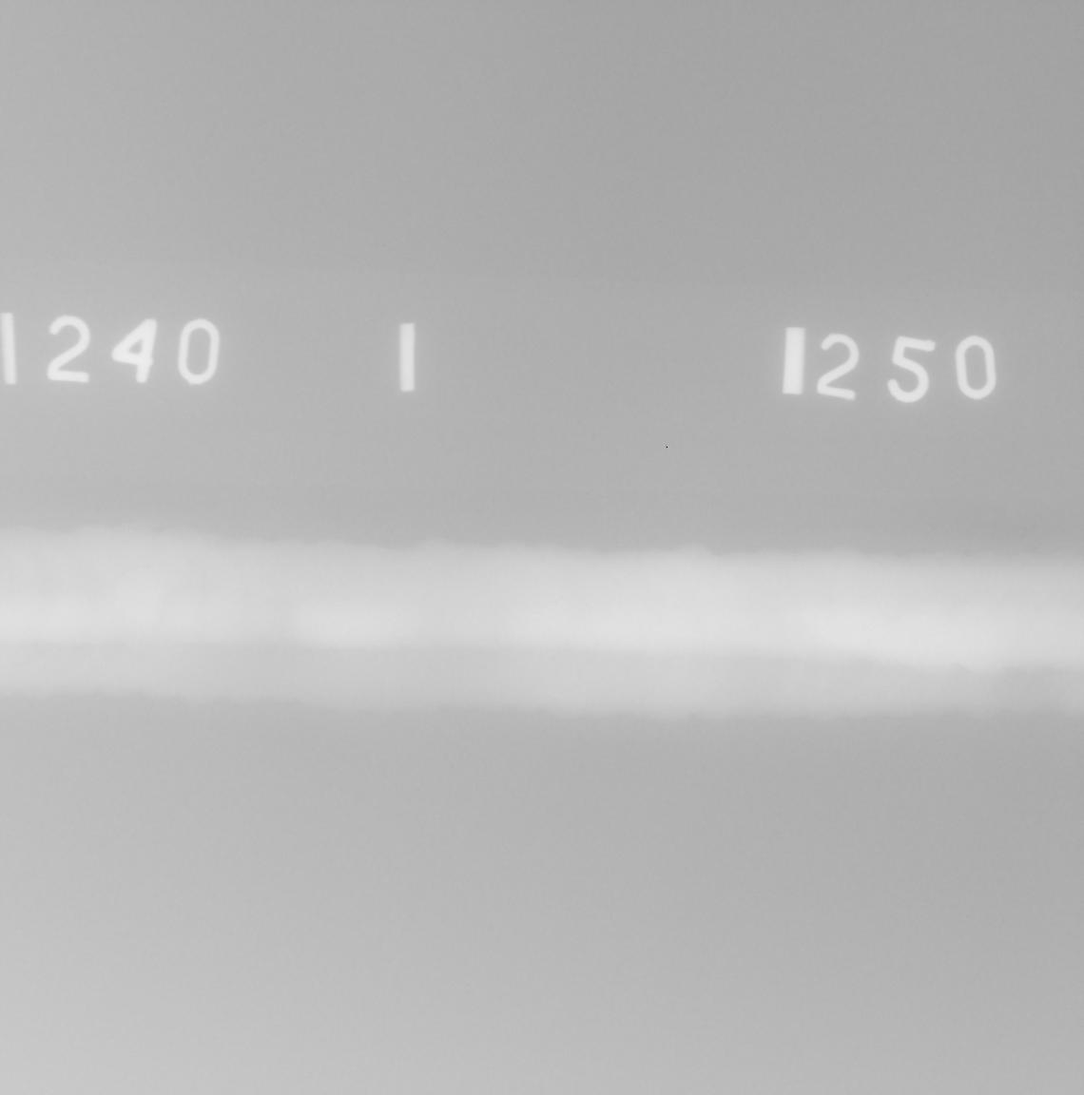Pore/Porosity: (147, 564, 152, 568)
